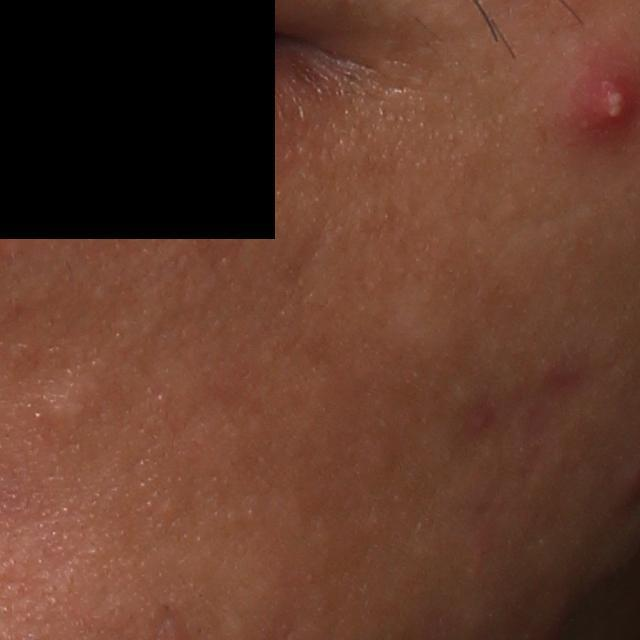hypertrophic_scar: (18, 367, 108, 446)
